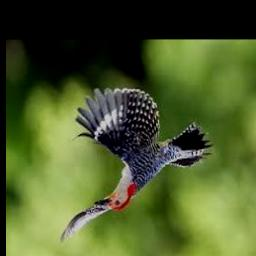Woodpecker: (60, 88, 212, 245)
